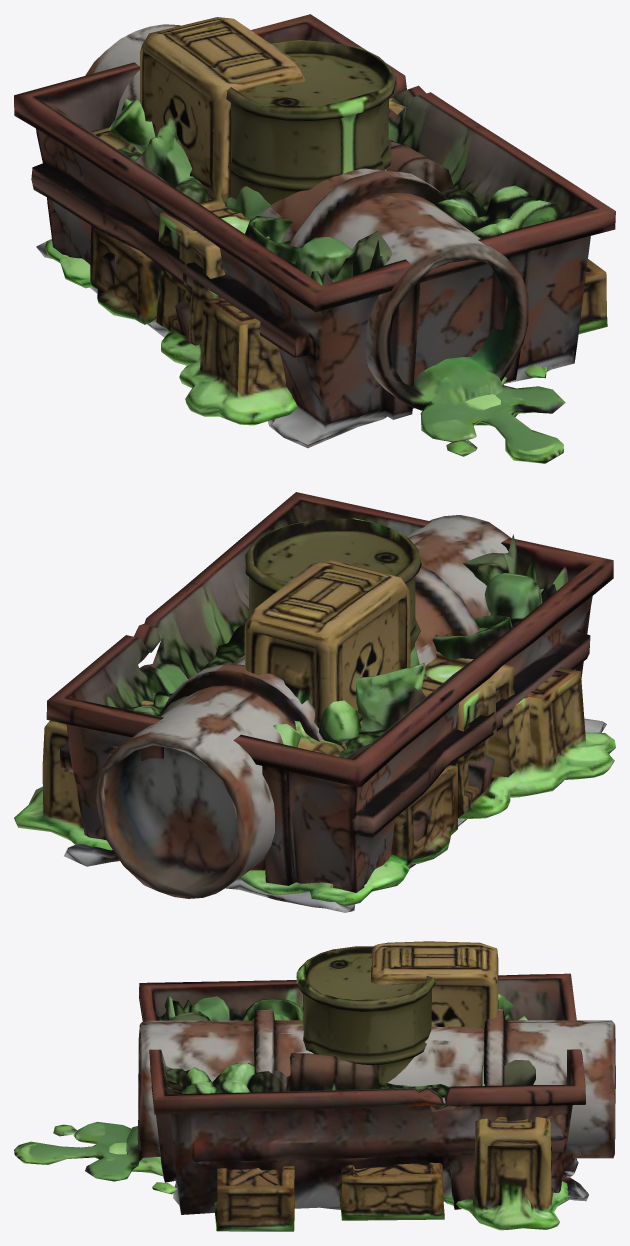
The model's file is toxic+waste+3d+model.fbx.
3 views of the same model, one above another, from view 1: azimuth 30°, elevation 25°; view 2: azimuth 150°, elevation 25°; view 3: azimuth 270°, elevation 25° (orthographic). The views are drawn at different scales.
Parts seen in each view (by area): view 1: tripo_node_d31a5597.001, tripo_node_d31a5597, tripo_node_d31a5597.003, tripo_node_d31a5597.002; view 2: tripo_node_d31a5597.001, tripo_node_d31a5597, tripo_node_d31a5597.003, tripo_node_d31a5597.002; view 3: tripo_node_d31a5597.001, tripo_node_d31a5597, tripo_node_d31a5597.003, tripo_node_d31a5597.002.
Boxes of the visible parts, x1=… form: tripo_node_d31a5597.001: x1=14, y1=14, x2=615, y2=448; tripo_node_d31a5597: x1=45, y1=17, x2=607, y2=425; tripo_node_d31a5597.003: x1=85, y1=24, x2=565, y2=463; tripo_node_d31a5597.002: x1=226, y1=39, x2=395, y2=204; tripo_node_d31a5597.001: x1=46, y1=492, x2=613, y2=912; tripo_node_d31a5597: x1=14, y1=560, x2=615, y2=906; tripo_node_d31a5597.003: x1=96, y1=515, x2=511, y2=898; tripo_node_d31a5597.002: x1=245, y1=518, x2=421, y2=653; tripo_node_d31a5597.001: x1=139, y1=973, x2=588, y2=1214; tripo_node_d31a5597: x1=109, y1=941, x2=568, y2=1231; tripo_node_d31a5597.003: x1=14, y1=1009, x2=615, y2=1181; tripo_node_d31a5597.002: x1=296, y1=946, x2=435, y2=1082.
Bounding box in the file's own units: 24.76 × 14.31 × 41.08.
